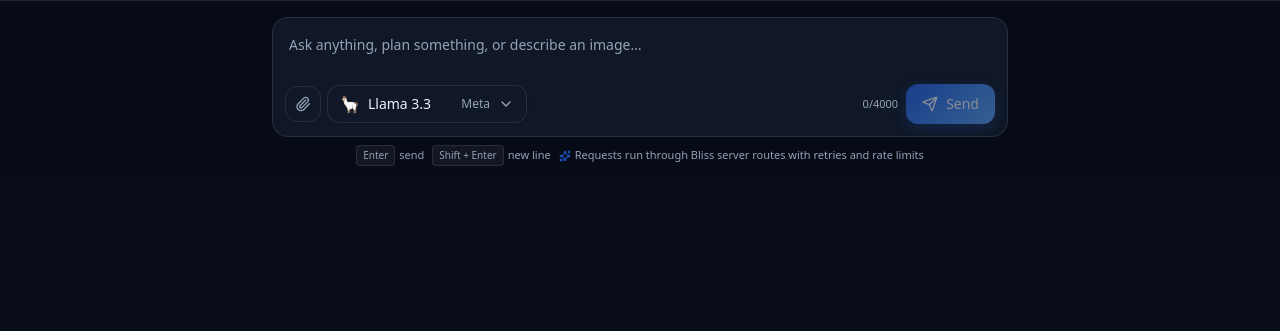
Scenario: composer attachment affordance › promises image analysis only when the fallback provides it
Click the button named "attach an image reference" at (303, 104), box [285,86,321,122]
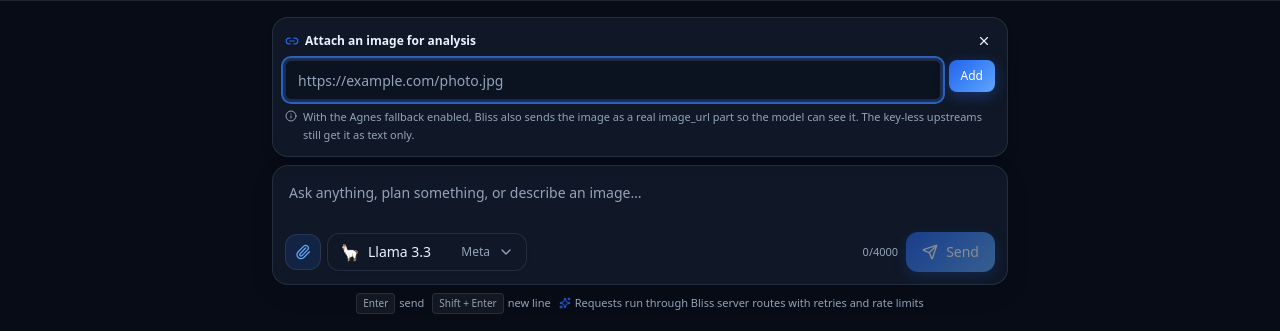
Expected: the text "Attach an image for analysis" is shown, [285,33,476,49]
